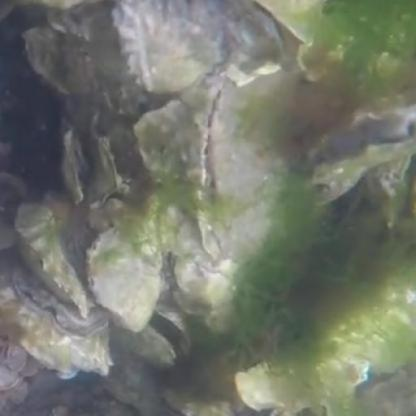Oyster- Indeterminate: (189, 65, 304, 266), (16, 265, 106, 342)
Oyster-Closed: (112, 0, 223, 92), (14, 205, 94, 314), (87, 228, 161, 327)
Oyster-Open: (310, 110, 416, 191), (63, 110, 124, 208), (114, 309, 192, 379)
